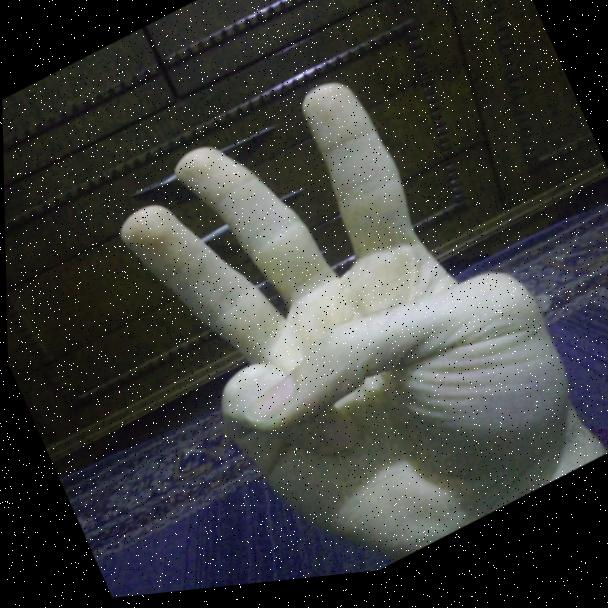five: (75, 0, 608, 602)
